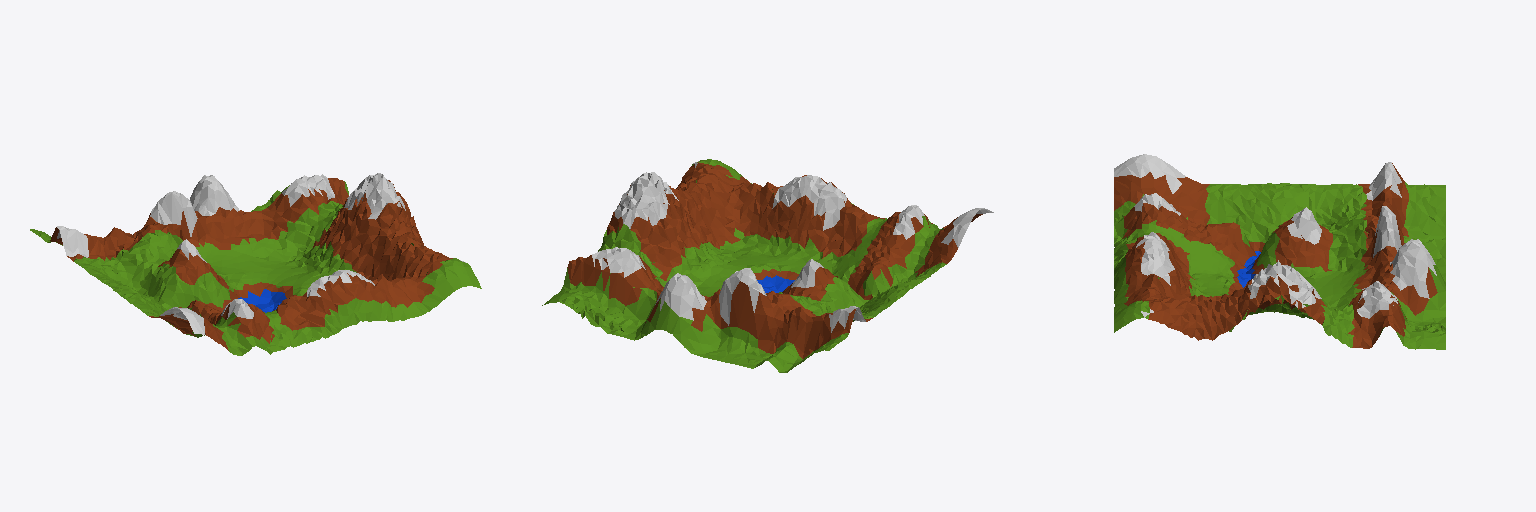
Rendered from first-landscape.obj.
The picture shows the model from 3 angles: view 1: azimuth 30°, elevation 25°; view 2: azimuth 150°, elevation 25°; view 3: azimuth 270°, elevation 25°; orthographic projection.
Visible parts, largest first — view 1: Grid; view 2: Grid; view 3: Grid.
Boxes of the visible parts, box(x1,y1,x2,y2) form: Grid: box(30, 173, 481, 355); Grid: box(542, 159, 993, 372); Grid: box(1114, 154, 1445, 349).
Size of the model in its own units: 20.07 by 7.07 by 20.04.